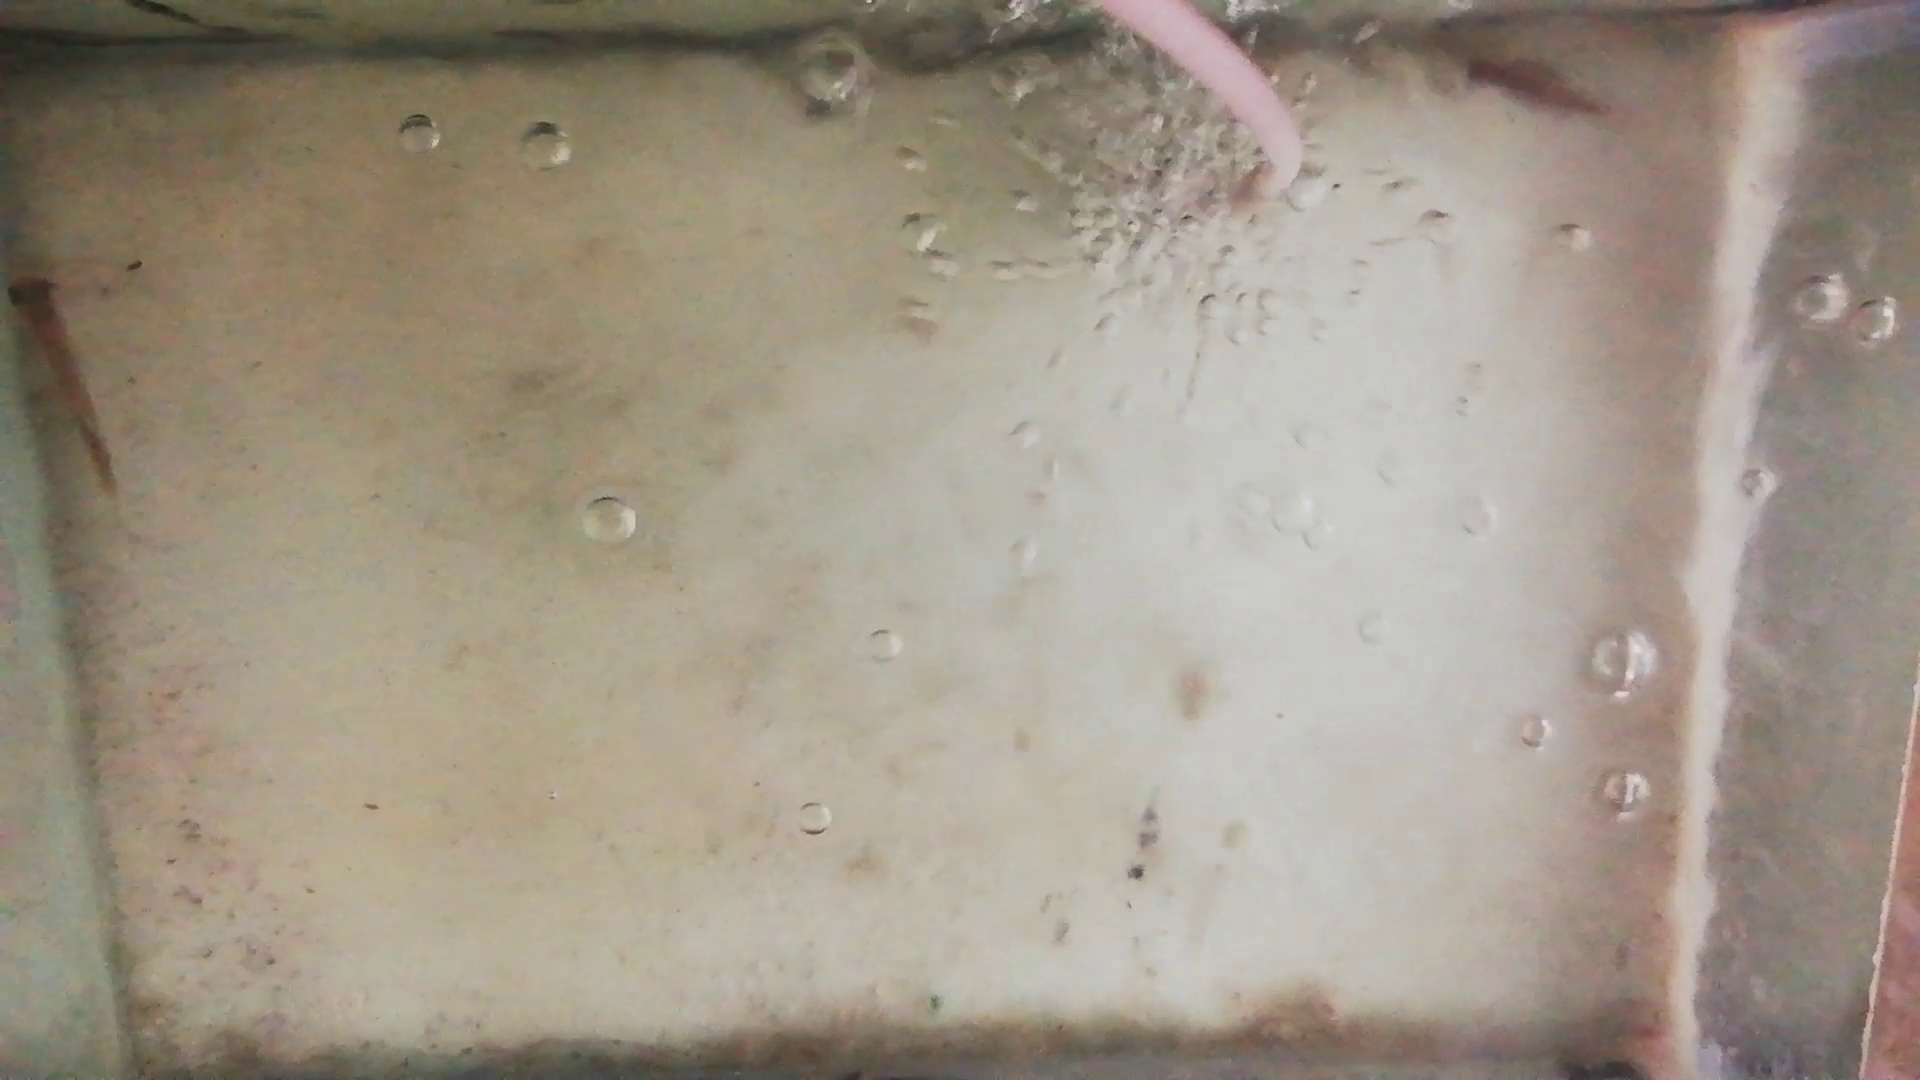fish: (5, 273, 116, 491), (1455, 47, 1613, 117)
